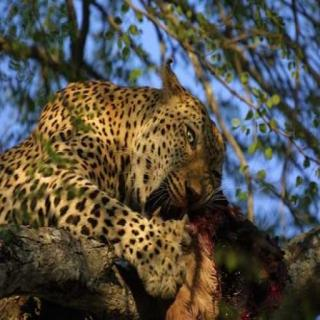Leopard: (4, 52, 229, 302)
